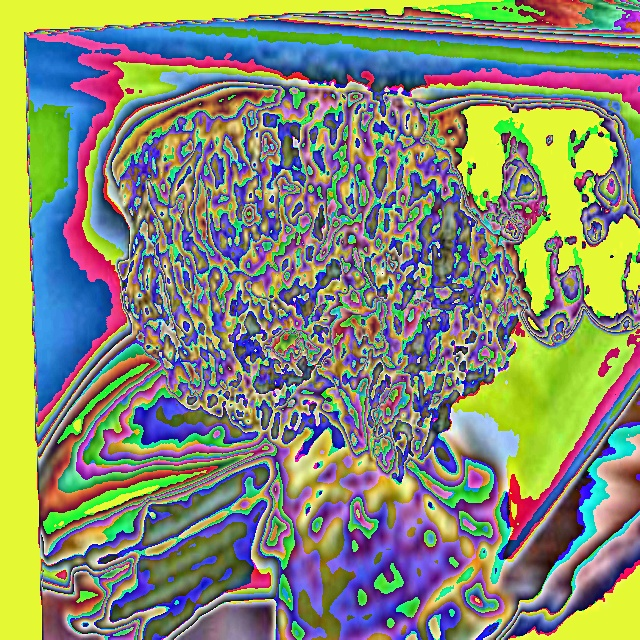background: (38, 87, 639, 639)
